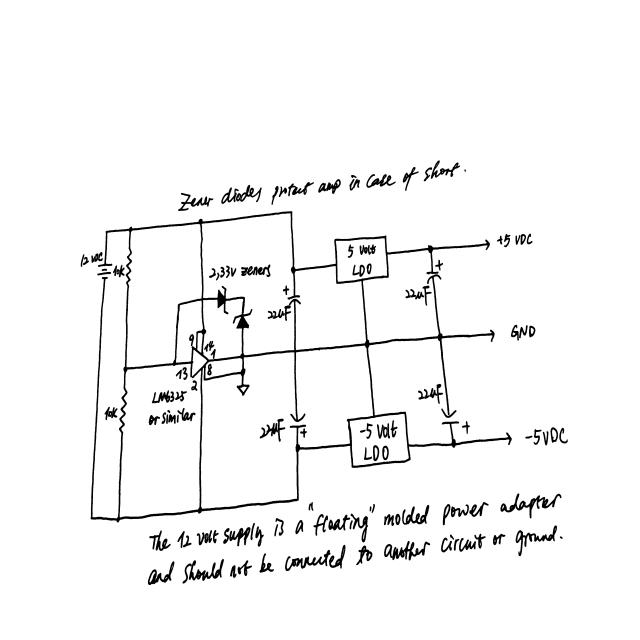capacitor: (440, 407, 470, 435), (288, 411, 307, 440), (425, 258, 444, 284), (282, 285, 301, 307)
crossover: (293, 348, 298, 355), (200, 296, 205, 303)
diode: (233, 309, 253, 329), (217, 286, 229, 315)
ground: (237, 383, 250, 396)
junction: (450, 440, 458, 449), (294, 494, 302, 503), (294, 443, 301, 453), (427, 244, 434, 253), (290, 266, 297, 275), (197, 506, 204, 515), (122, 365, 129, 374), (437, 332, 444, 341), (364, 340, 370, 349), (128, 225, 134, 233), (115, 515, 121, 523), (89, 514, 95, 522), (240, 368, 246, 376), (197, 218, 203, 226), (289, 209, 295, 216), (240, 353, 246, 360), (104, 229, 109, 236), (172, 359, 177, 366), (177, 301, 182, 308), (201, 329, 206, 335), (242, 296, 246, 300), (196, 331, 199, 335), (203, 378, 206, 381)
resistor: (346, 411, 411, 469), (119, 389, 128, 433), (125, 248, 133, 285)
source: (97, 263, 113, 280)
terminal: (483, 238, 492, 251), (505, 432, 513, 446), (489, 329, 496, 342)
text: (145, 526, 563, 592), (147, 490, 562, 554), (177, 159, 467, 212), (526, 426, 569, 446), (148, 408, 196, 425), (360, 420, 398, 439), (259, 418, 286, 442), (404, 284, 432, 306), (151, 388, 187, 405), (496, 232, 535, 247), (417, 385, 443, 403), (510, 323, 537, 340), (209, 265, 236, 281), (364, 445, 389, 462), (267, 305, 293, 321), (347, 244, 376, 258), (241, 264, 270, 278), (80, 251, 103, 268), (352, 264, 372, 279), (204, 340, 217, 359), (104, 406, 118, 420), (113, 263, 126, 278), (175, 367, 188, 380), (191, 380, 198, 391), (207, 364, 213, 376), (189, 334, 194, 347)
